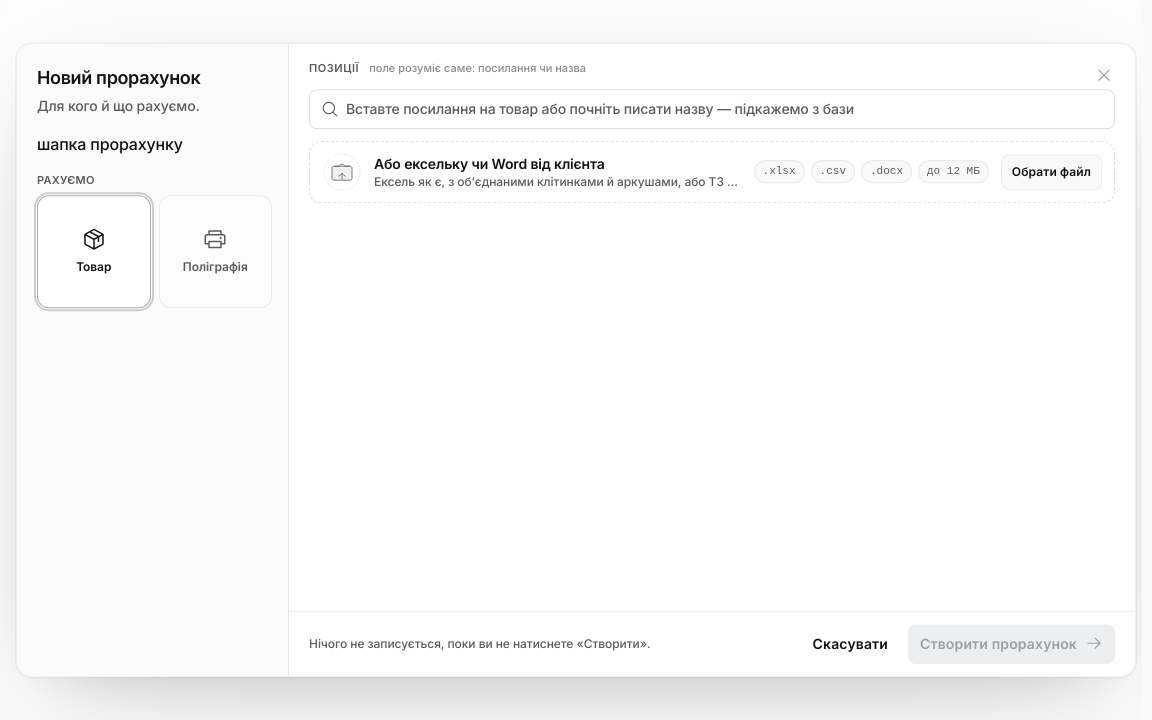
Scenario: QuoteWizardDialog — один екран › за посиланням: товари накопичуються, кілька посилань за раз
This screenshot has width=1152, height=720.
Type "https://shop.example/a" into the dropdown named "Товар: посилання або назва" at (712, 109), box [309, 89, 1115, 129]
Then press Enter
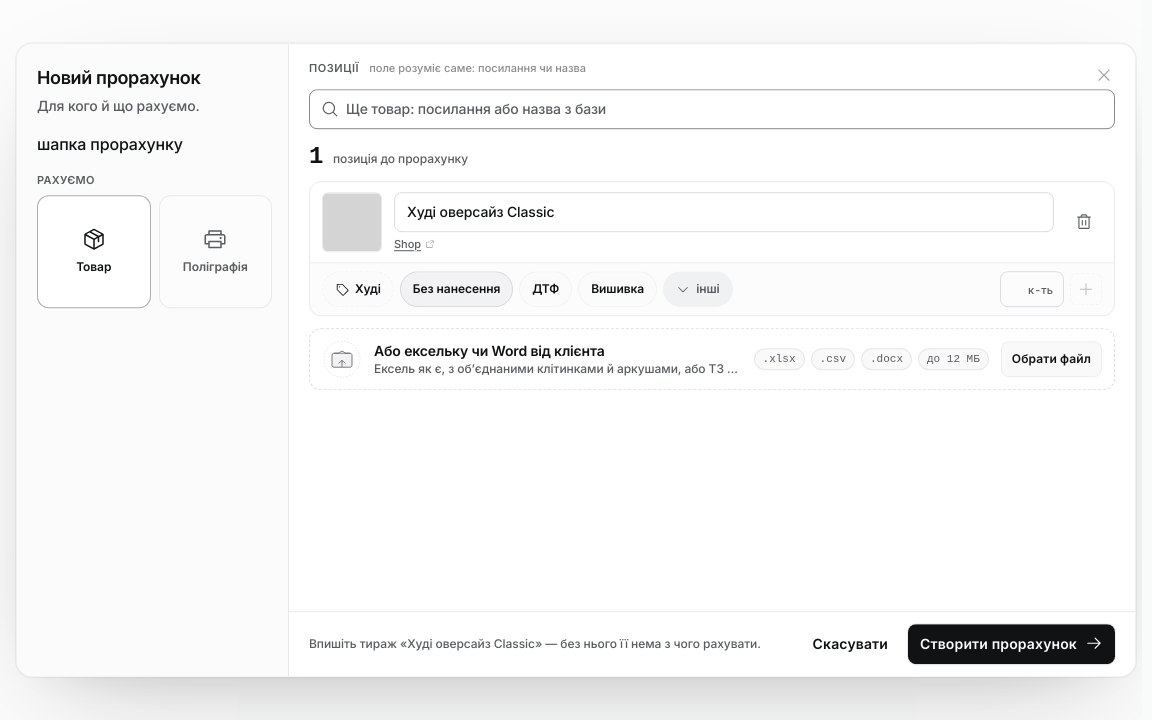
Expected: the number of fields named "Назва позиції" is 1, [394, 192, 1054, 232]
// Два посилання одним рядком — дві позиції.
Type "https://shop.example/b https://shop.example/c" into the dropdown labelled "товар: посилання або назва" at (712, 109), box [309, 89, 1115, 129]
Then press Enter
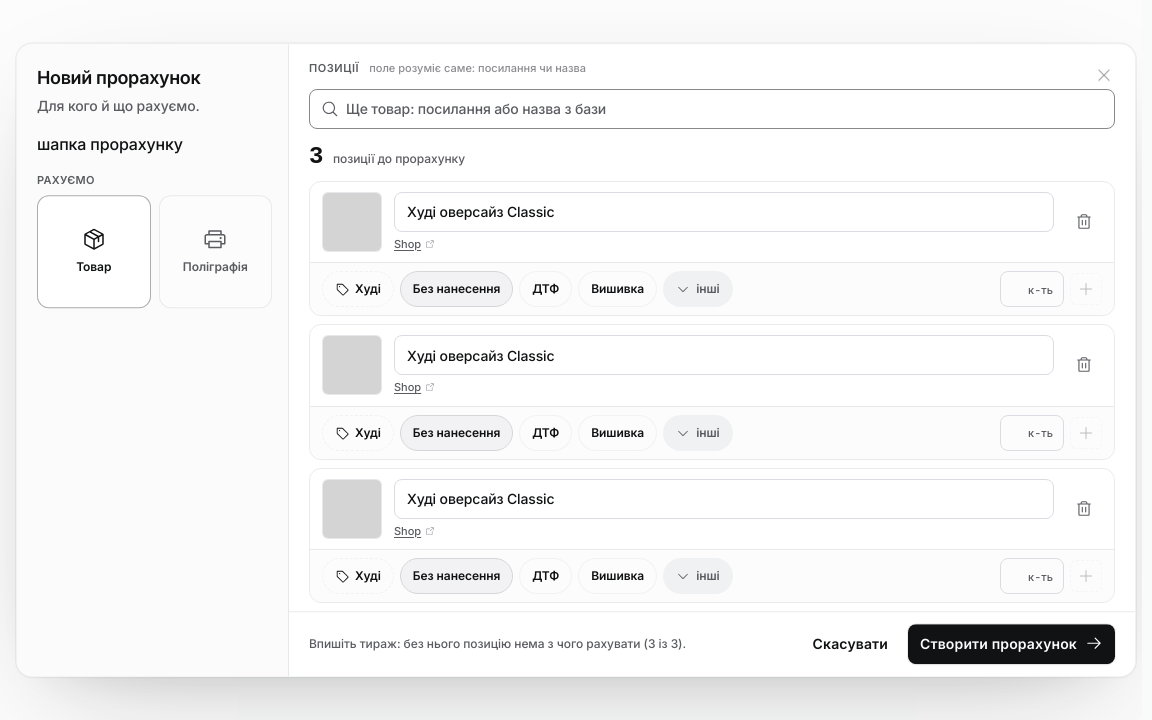
Expected: the number of fields named "Назва позиції" is 3, [394, 192, 1054, 232]; [394, 335, 1054, 375]; [394, 479, 1054, 519]
Expected: the number of links "Shop" is 3, [394, 236, 435, 252]; [394, 379, 435, 396]; [394, 523, 435, 539]
